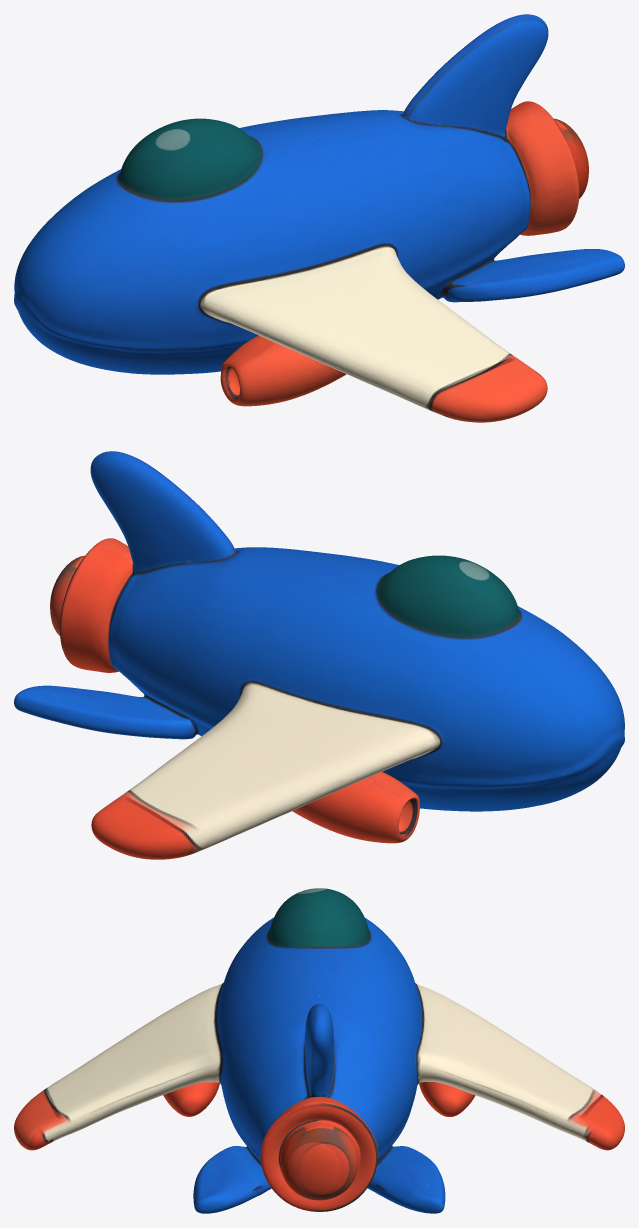
File: swallow_glider.glb
The picture shows the model from 3 angles, top to bottom: view 1: azimuth 30°, elevation 25°; view 2: azimuth 150°, elevation 25°; view 3: azimuth 270°, elevation 25°; orthographic projection. The views are drawn at different scales.
Size of the model in its own units: 1.75 by 0.8169 by 1.9.
Materials: 1 (1 with a texture image).
